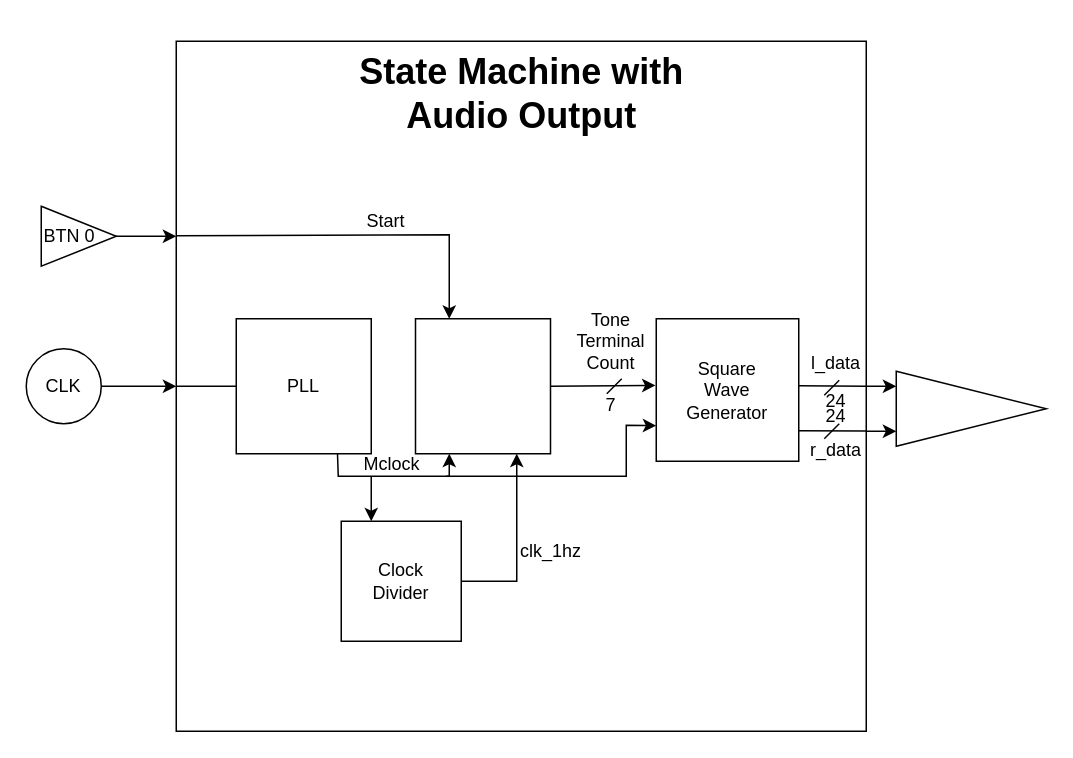
This 1073x758 diagram has some shape labels left out. The shapes that lost their labels are listed below. From the top down, each one's box as (x1, y1, x2, y2) in pixels, then its label:
(414, 317, 550, 454): State Machine
(895, 370, 1046, 446): Audio Codec
